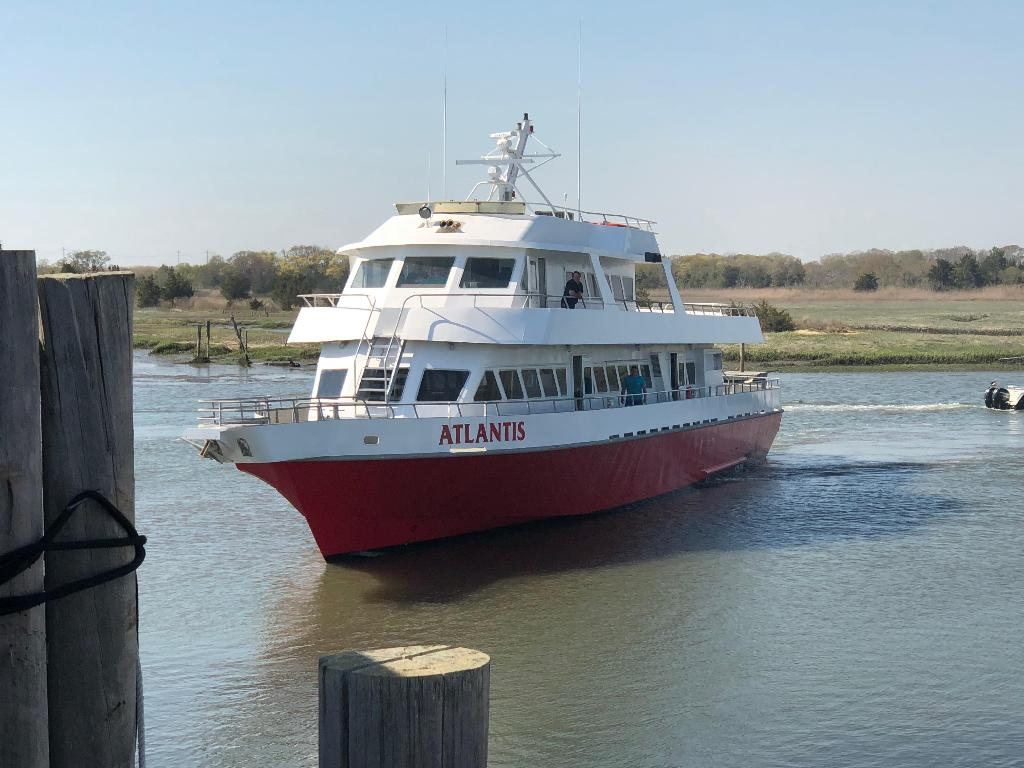PassengerShip: (158, 126, 804, 614)
